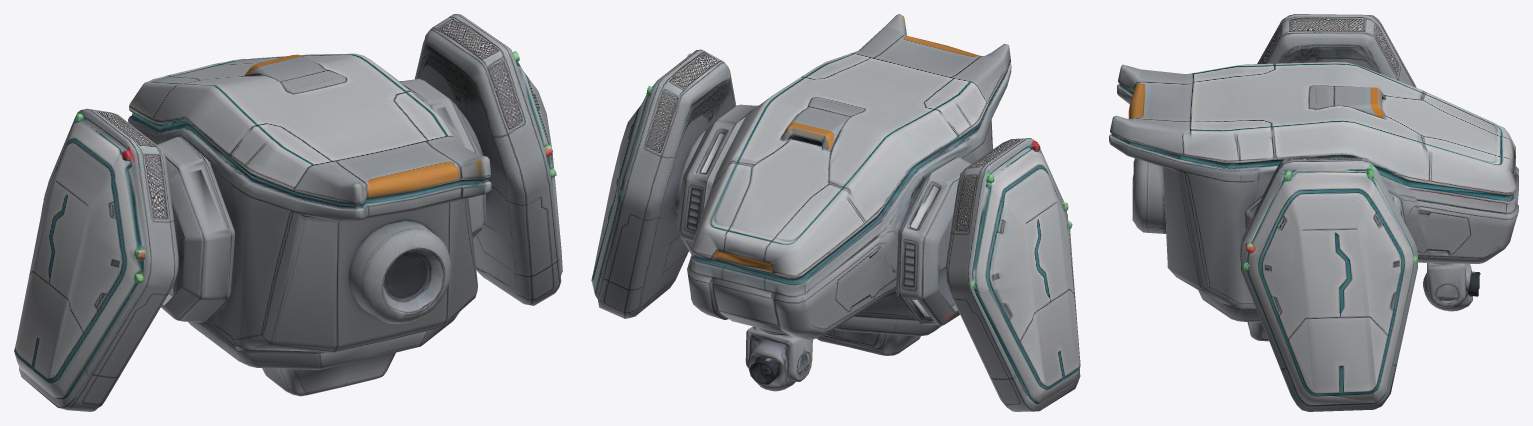
File: river_drone.glb
The picture shows the model from 3 angles, left to right: view 1: azimuth 30°, elevation 25°; view 2: azimuth 150°, elevation 25°; view 3: azimuth 270°, elevation 25°; orthographic projection. The views are drawn at different scales.
Visible parts, largest first — view 1: Body; view 2: Body; view 3: Body, Trim.
Part boxes in pixels (x1,y1,x2,y2): Body: [14, 14, 562, 411]; Body: [591, 14, 1080, 411]; Body: [1109, 14, 1518, 411]; Trim: [1115, 98, 1508, 402].
Bounding box in the file's own units: 2.37 × 1.25 × 1.94.
2 materials, 2 textured.
